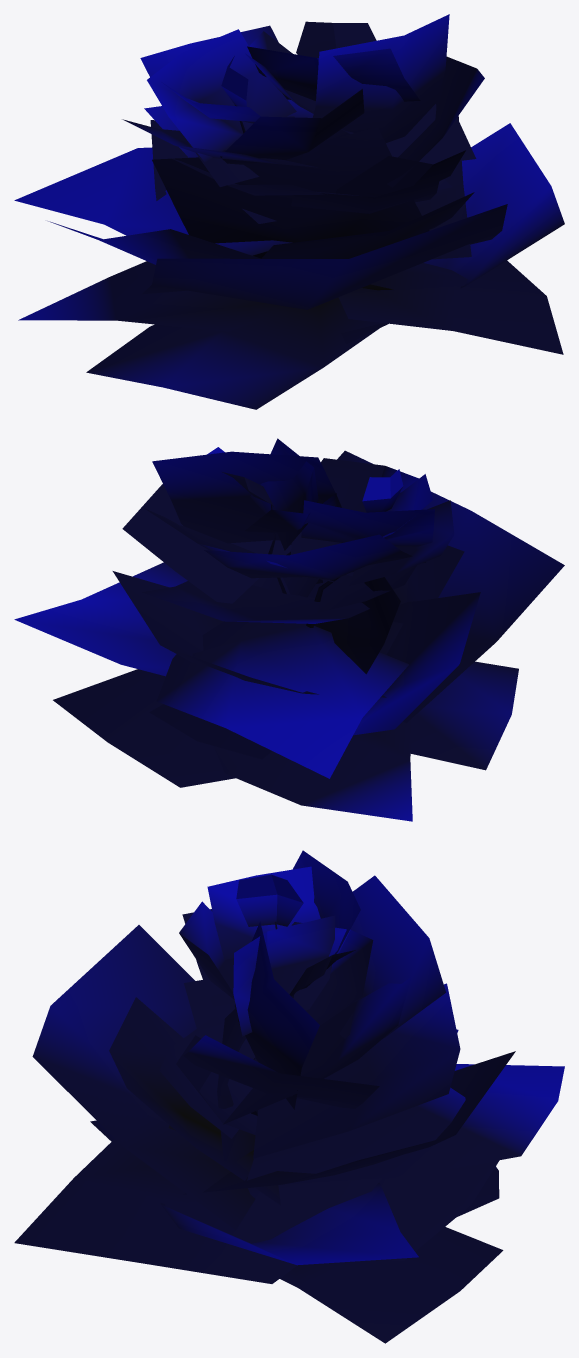
File: SM_Foliage_ShrubB_01.fbx
3 views of the same model, one above another, from view 1: azimuth 30°, elevation 25°; view 2: azimuth 150°, elevation 25°; view 3: azimuth 270°, elevation 25° (orthographic). The views are drawn at different scales.
Visible parts, largest first — view 1: SM_Foliage_ShrubB_01; view 2: SM_Foliage_ShrubB_01; view 3: SM_Foliage_ShrubB_01.
Part boxes in pixels (bbox=[...]): SM_Foliage_ShrubB_01: bbox=[14, 14, 564, 409]; SM_Foliage_ShrubB_01: bbox=[14, 438, 564, 821]; SM_Foliage_ShrubB_01: bbox=[14, 850, 564, 1343].
Bounding box in the file's own units: 371 × 349 × 224.
